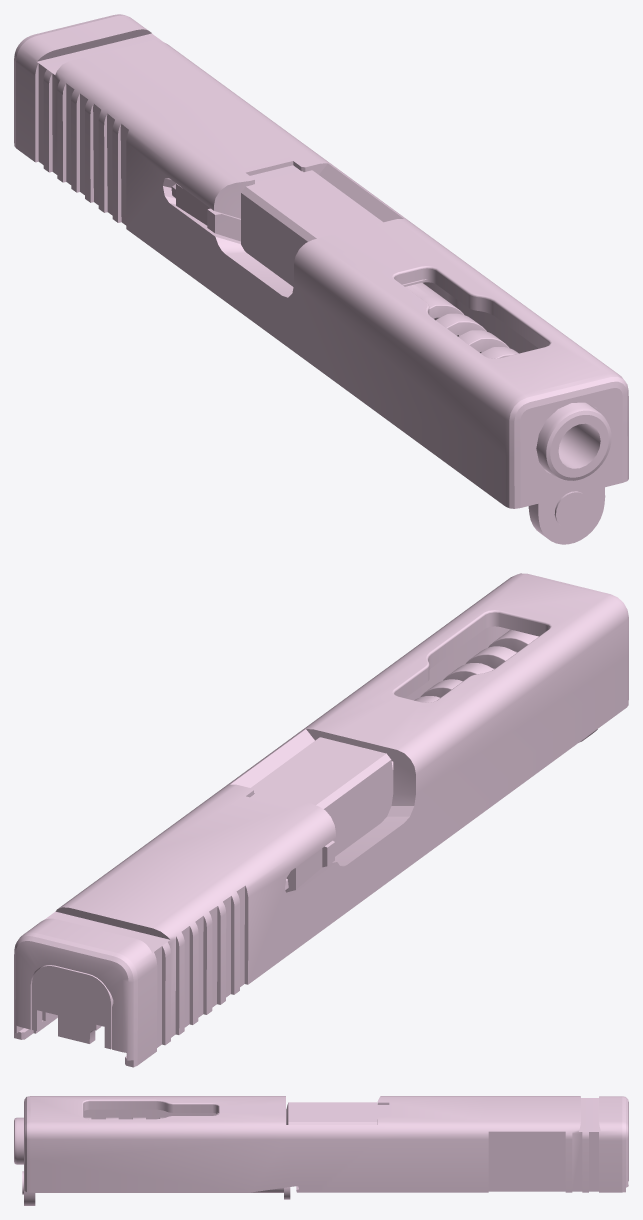
Rendered from Auto Slide New.fbx.
The picture shows the model from 3 angles, top to bottom: view 1: azimuth 30°, elevation 25°; view 2: azimuth 150°, elevation 25°; view 3: azimuth 270°, elevation 25°; orthographic projection. The views are drawn at different scales.
Visible parts, largest first — view 1: slide_auto; view 2: slide_auto; view 3: slide_auto.
Boxes of the visible parts, x1=… form: slide_auto: x1=14, y1=14, x2=628, y2=544; slide_auto: x1=14, y1=573, x2=628, y2=1067; slide_auto: x1=14, y1=1096, x2=628, y2=1205.
Bounding box in the file's own units: 115 × 826 × 140.
